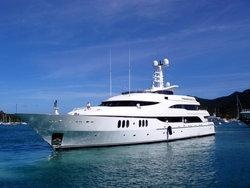yacht: (16, 55, 217, 152)
